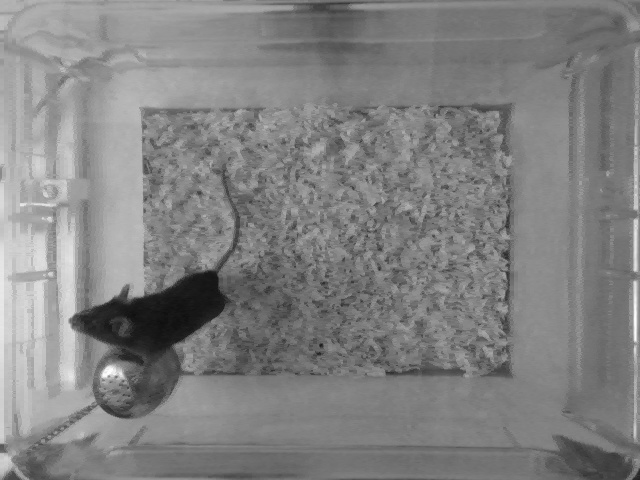mice: (65, 159, 244, 364)
